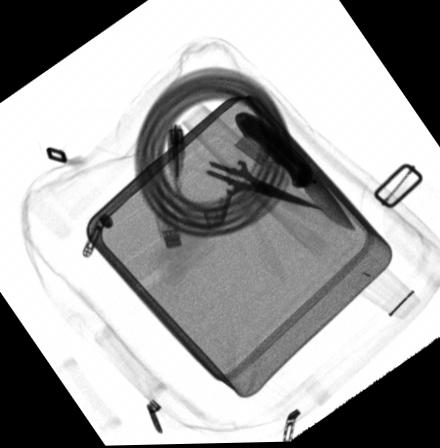Knife: (234, 112, 357, 232)
Scissors: (175, 129, 323, 210)
